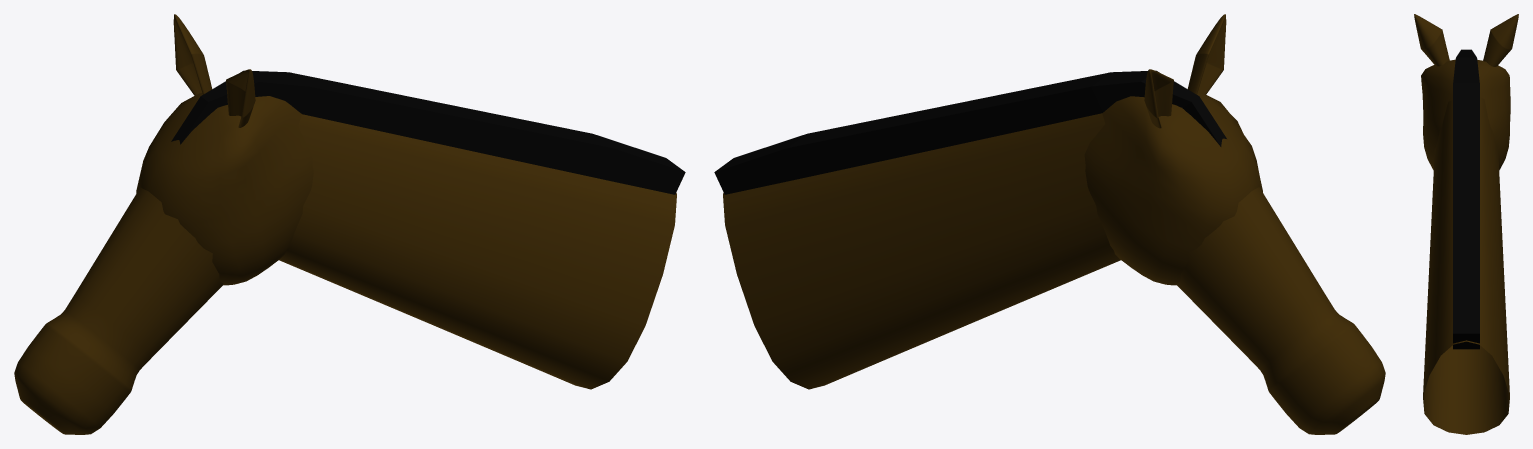
The model's file is horseAnim.fbx.
3 renders of one model, left to right at view 1: azimuth 30°, elevation 25°; view 2: azimuth 150°, elevation 25°; view 3: azimuth 270°, elevation 25°, orthographic. The views are drawn at different scales.
Visible parts, largest first — view 1: Cube; view 2: Cube; view 3: Cube.
Boxes of the visible parts, left/top/right/bottom form: Cube: left=14, top=14, right=685, bottom=434; Cube: left=714, top=14, right=1385, bottom=434; Cube: left=1414, top=14, right=1518, bottom=434.
Size of the model in its own units: 840 by 529 by 168.
